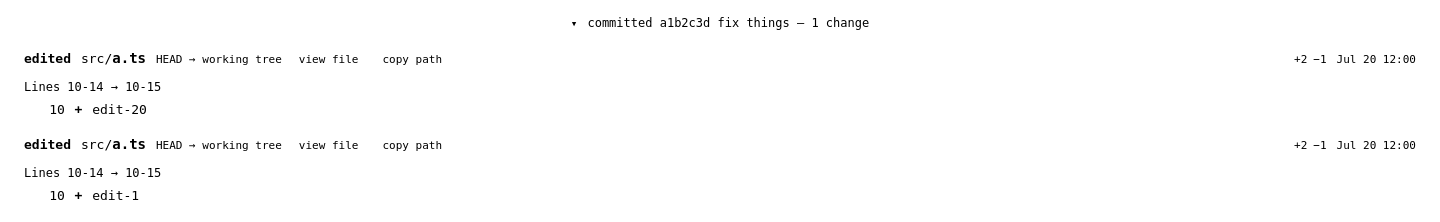
rendering › folding a commit also hides the dead (outdated) stubs in its section
expect the number of elements with test id "journal-entry" is 2: met, box [12,42,1428,120]; [12,128,1428,206]
Step 1. Click the button with test id "journal-boundary" → x=720, y=23, box [571,16,869,30]
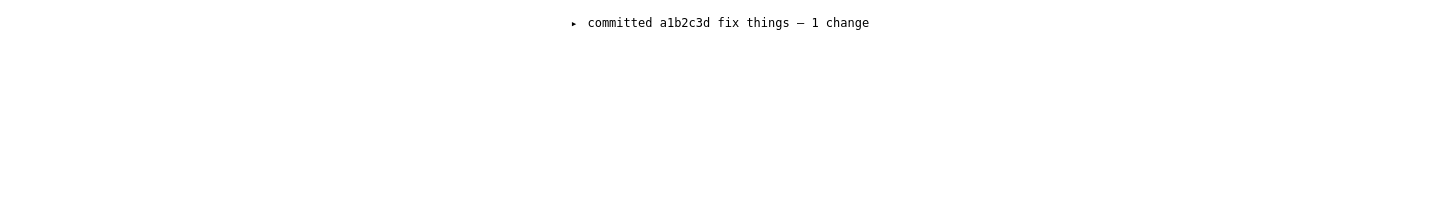
expect no elements with test id "journal-entry" are shown: met
